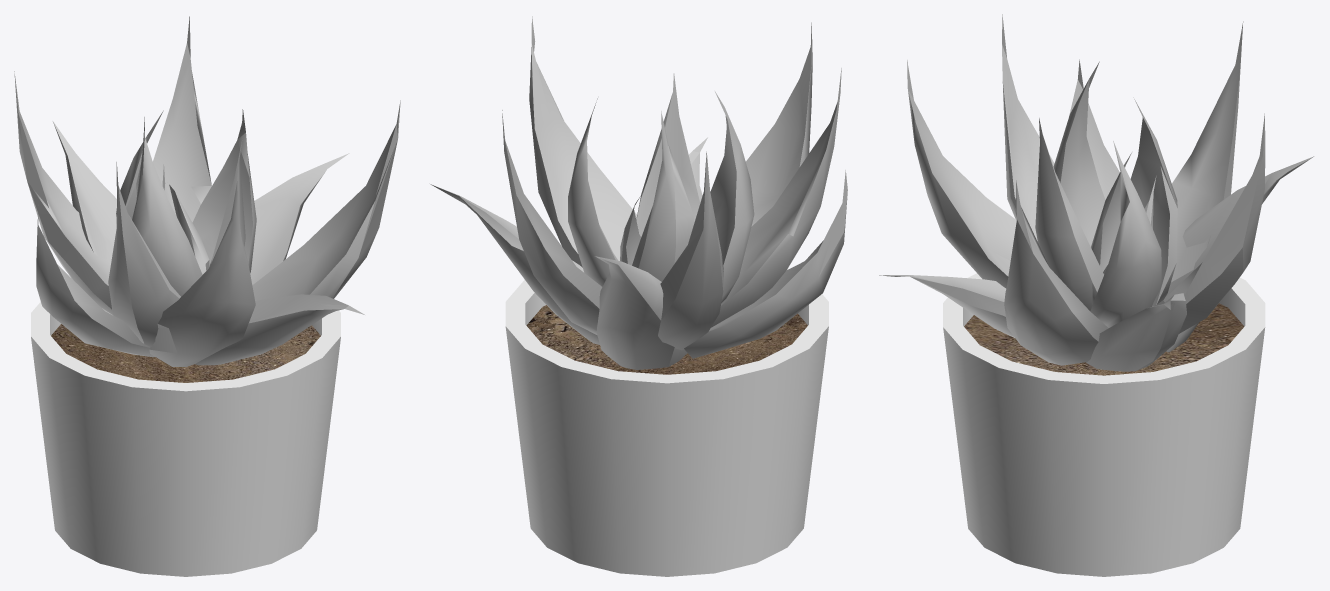
Rendered from Plant 6.FBX.
3 renders of one model, left to right at view 1: azimuth 30°, elevation 25°; view 2: azimuth 150°, elevation 25°; view 3: azimuth 270°, elevation 25°, orthographic. The views are drawn at different scales.
Parts seen in each view (by area): view 1: Plant 6; view 2: Plant 6; view 3: Plant 6.
Part boxes in pixels (bbox=[...]): Plant 6: bbox=[14, 16, 400, 576]; Plant 6: bbox=[430, 16, 847, 576]; Plant 6: bbox=[879, 14, 1314, 576].
Size of the model in its own units: 19.37 by 22.31 by 19.87.
